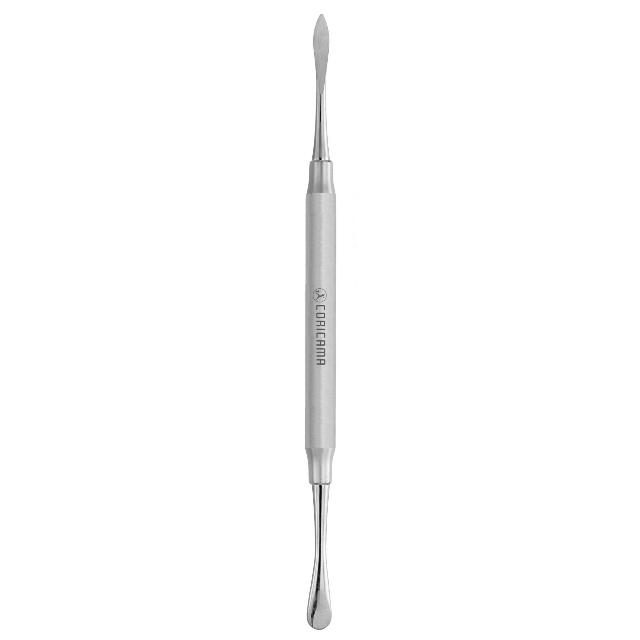elevador: (304, 12, 341, 634)
